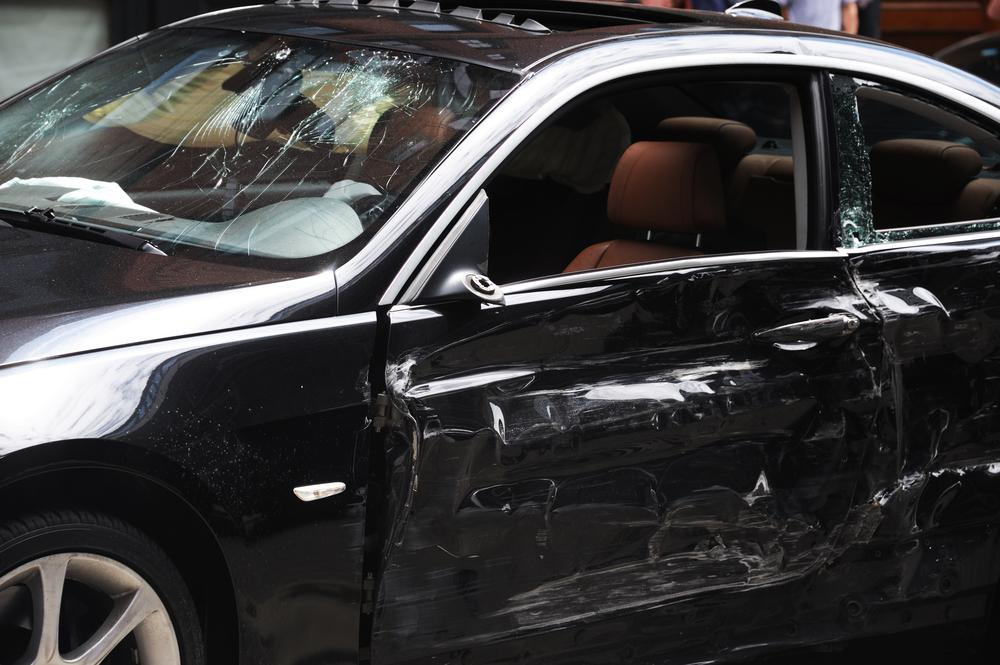dent: (393, 260, 907, 642)
glass shatter: (0, 25, 523, 267)
